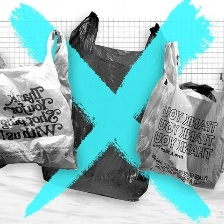plastic_bag: (33, 8, 173, 204), (133, 37, 224, 191), (0, 26, 84, 177)
